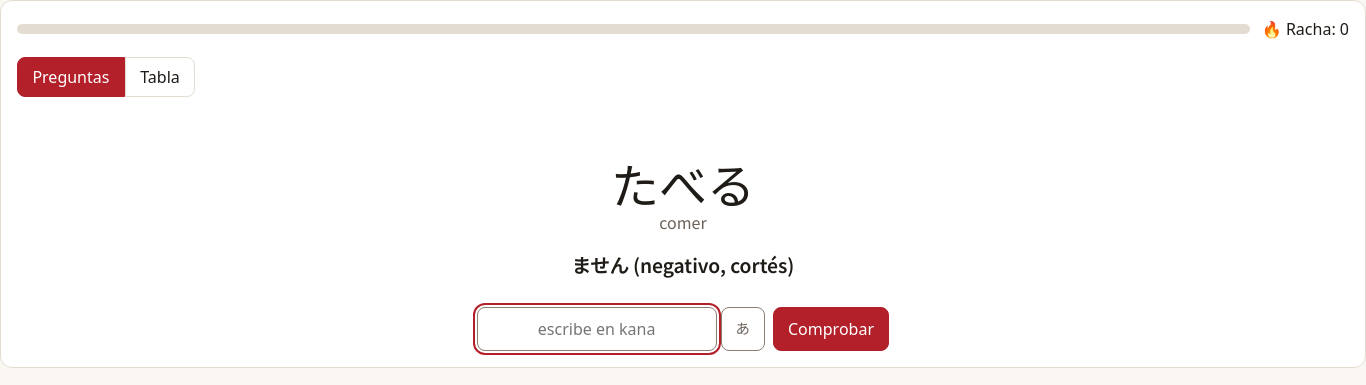
Scenario: conjugation quiz › asks for a form of the lesson and accepts the right conjugation
This screenshot has width=1366, height=385.
Type "たべません" into the field named "Conjugación en kana" at x=597, y=329, box [477,307,717,351]
Then press Enter
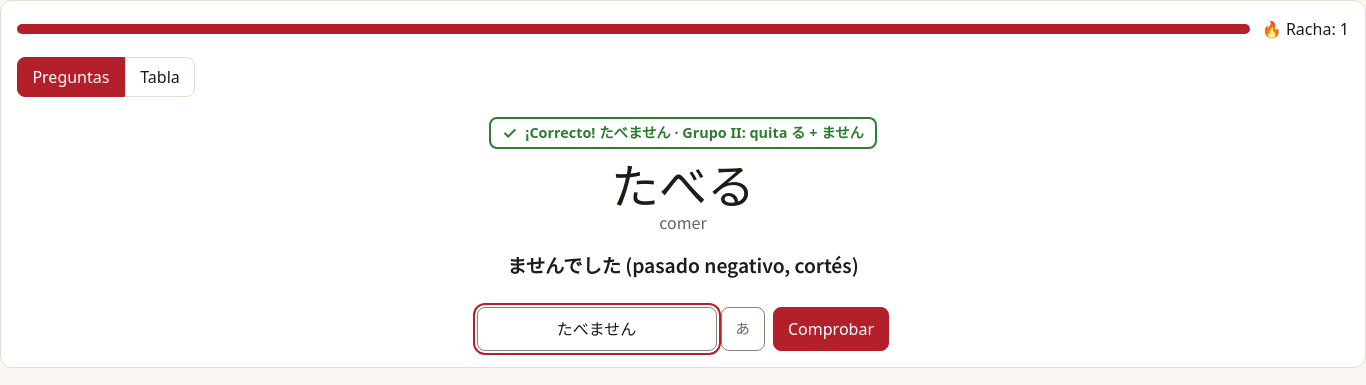
expect the text "¡Correcto! たべません · Grupo II: quita る + ません" is shown: met, box [525,124,864,142]
